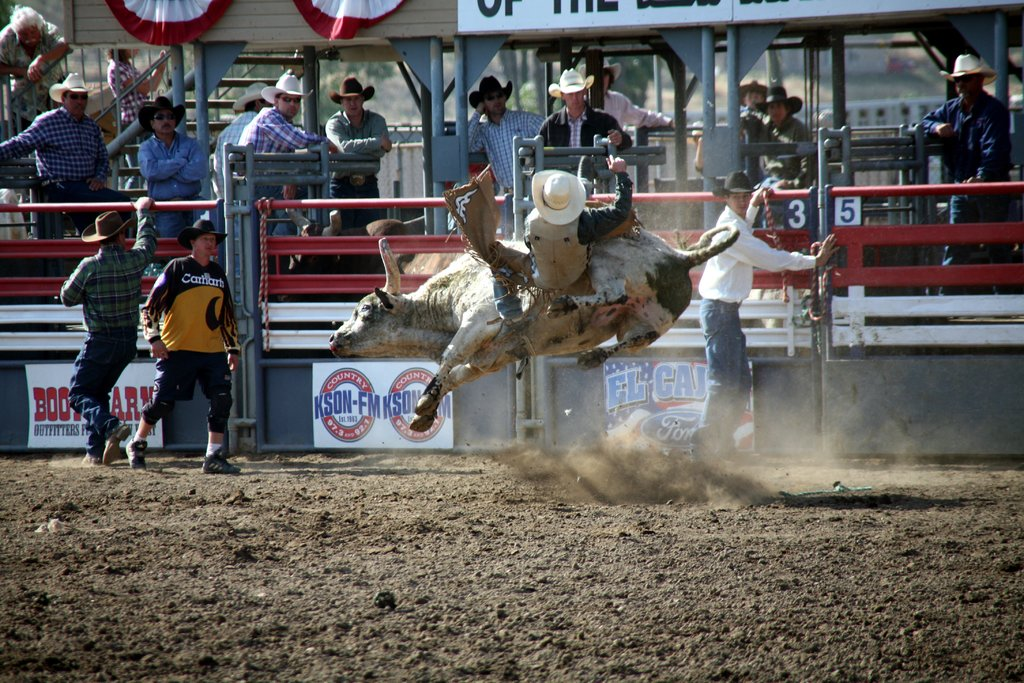Person: (0, 7, 816, 236), (695, 176, 837, 462), (906, 57, 1021, 296), (57, 196, 160, 461), (140, 219, 239, 477), (516, 155, 638, 284)
